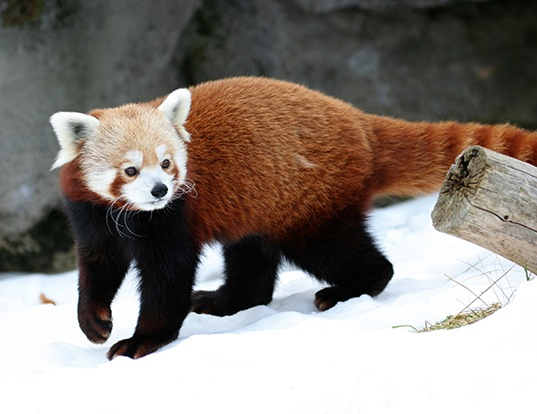red_panda: (51, 81, 505, 357)
